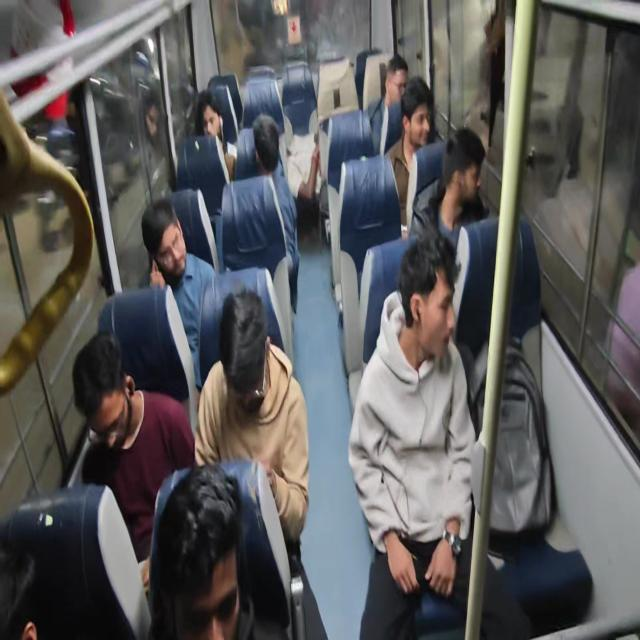person: (384, 251, 504, 491), (153, 463, 278, 640), (187, 273, 270, 482), (68, 346, 155, 496), (0, 478, 47, 640), (271, 93, 310, 233), (446, 144, 494, 222), (134, 204, 176, 286), (401, 69, 442, 150), (202, 91, 251, 155), (249, 112, 284, 182), (383, 44, 412, 112)
